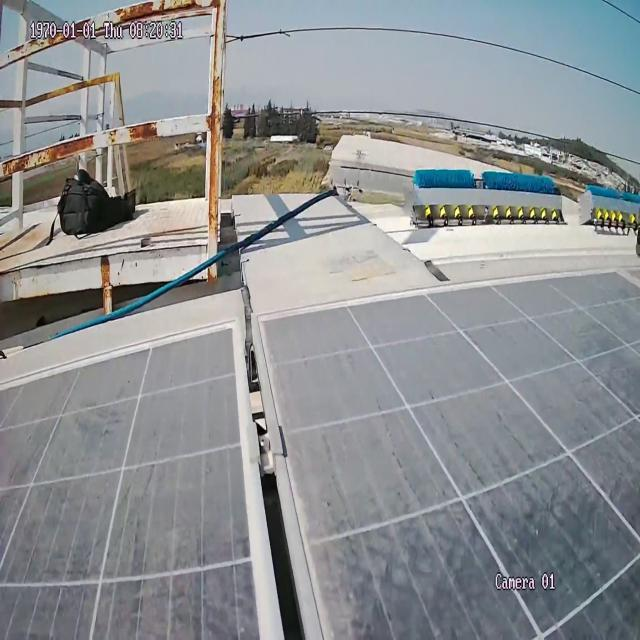interior panel: (164, 275, 365, 640)
outher panel: (0, 0, 640, 368)
